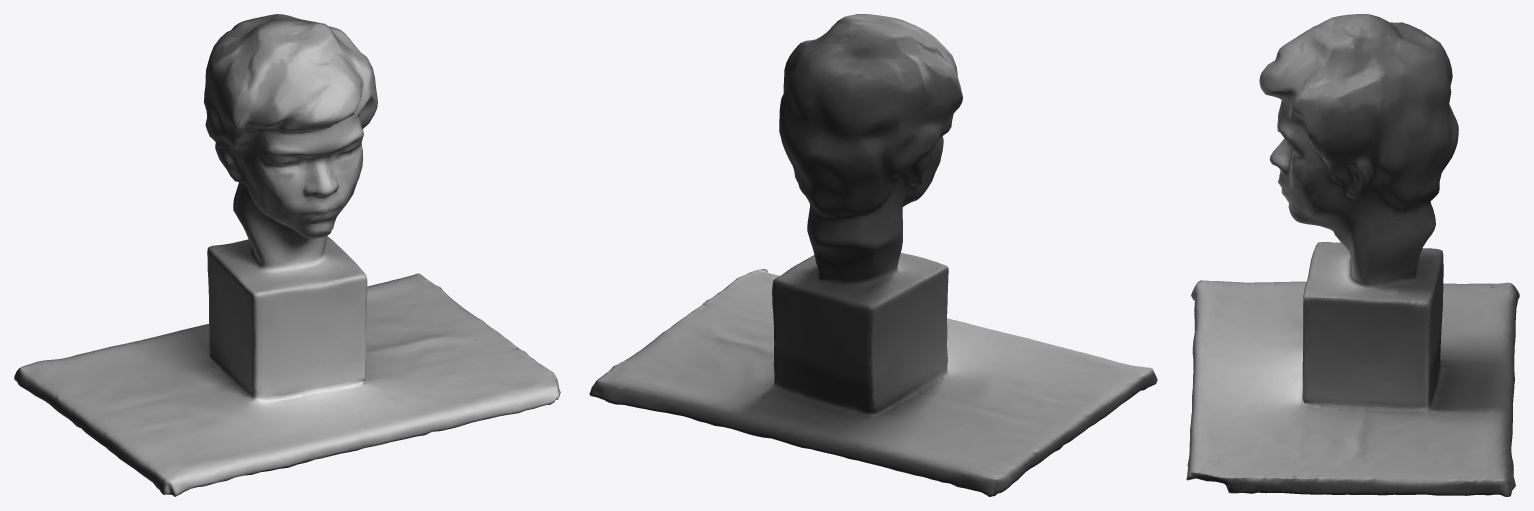
Rendered from 石膏头像_男中青年_分模胸像02_opt.glb.
3 views of the same model, side by side, from view 1: azimuth 30°, elevation 25°; view 2: azimuth 150°, elevation 25°; view 3: azimuth 270°, elevation 25° (orthographic). The views are drawn at different scales.
Visible parts, largest first — view 1: surfaceShader8SG, surfaceShader8SG_1; view 2: surfaceShader8SG, surfaceShader8SG_1; view 3: surfaceShader8SG, surfaceShader8SG_1.
Part boxes in pixels (x1,y1,x2,y2): surfaceShader8SG: [14, 14, 560, 496]; surfaceShader8SG_1: [18, 16, 554, 493]; surfaceShader8SG: [589, 14, 1157, 496]; surfaceShader8SG_1: [619, 16, 1155, 491]; surfaceShader8SG: [1186, 14, 1519, 496]; surfaceShader8SG_1: [1187, 21, 1515, 495].
Size of the model in its own units: 0.356 by 0.3 by 0.245.
1 material, 1 textured.
